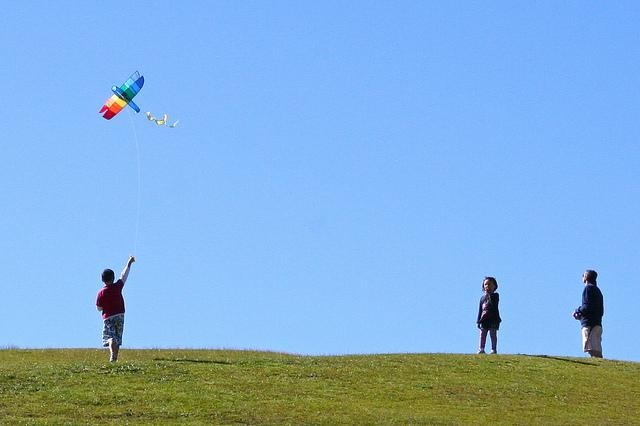person: (89, 254, 137, 361), (573, 263, 614, 360), (474, 275, 504, 358)
